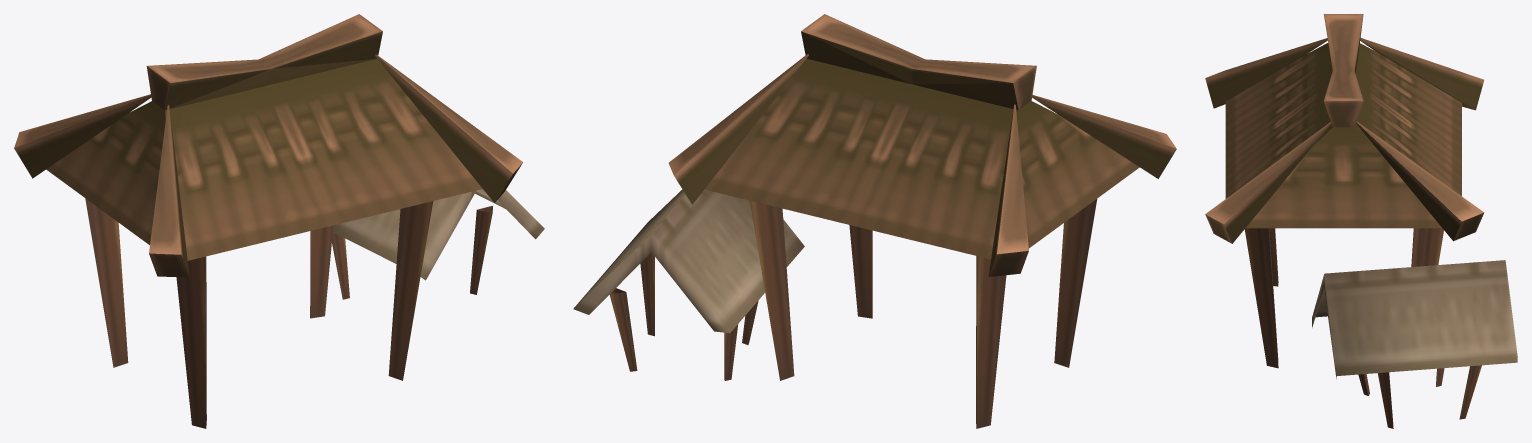
File: EnvBuilding_HeiShi.FBX
3 views of the same model, side by side, from view 1: azimuth 30°, elevation 25°; view 2: azimuth 150°, elevation 25°; view 3: azimuth 270°, elevation 25° (orthographic). The views are drawn at different scales.
Parts seen in each view (by area): view 1: Building_HeiShi; view 2: Building_HeiShi; view 3: Building_HeiShi.
Boxes of the visible parts, x1,y1,x2,y2 form: Building_HeiShi: (14,14,544,428); Building_HeiShi: (573,14,1176,428); Building_HeiShi: (1205,14,1517,428).
Size of the model in its own units: 10.45 by 6.98 by 7.27.
